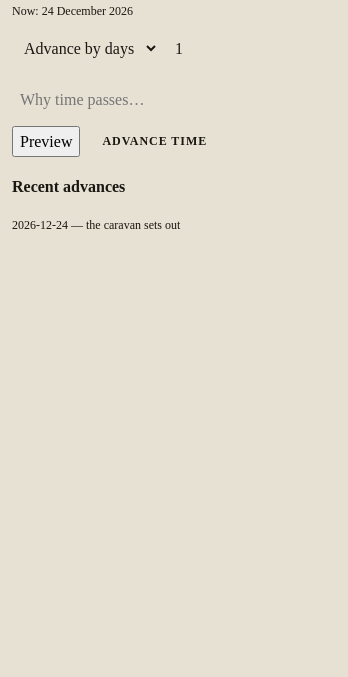
surfaces a refused advance instead of pretending it landed
Expected: the text "Now: 24 December 2026" is shown, top-left (12, 4), bottom-right (133, 18)
Type "onwards" into the field named "Reason" at (120, 100), box top-left (12, 86), bottom-right (228, 114)
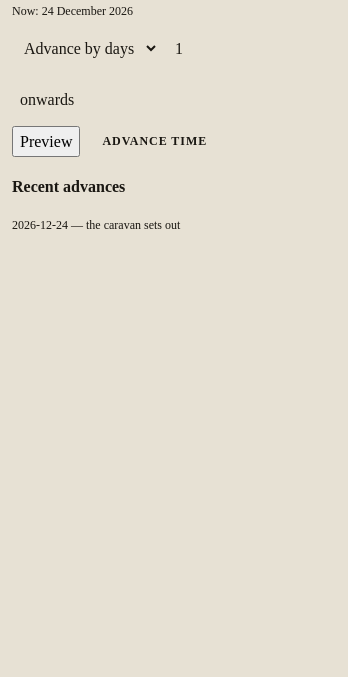
Click the button "Advance time" at (155, 142), box top-left (88, 126), bottom-right (221, 157)
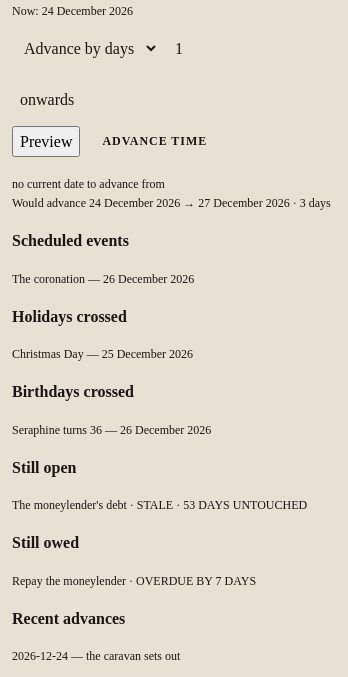
Now the text "no current date to advance from" is shown, box top-left (12, 177), bottom-right (165, 191)
